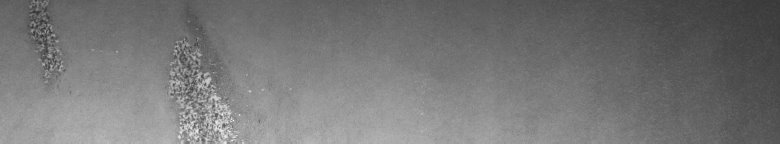hc: (165, 17, 264, 136)
